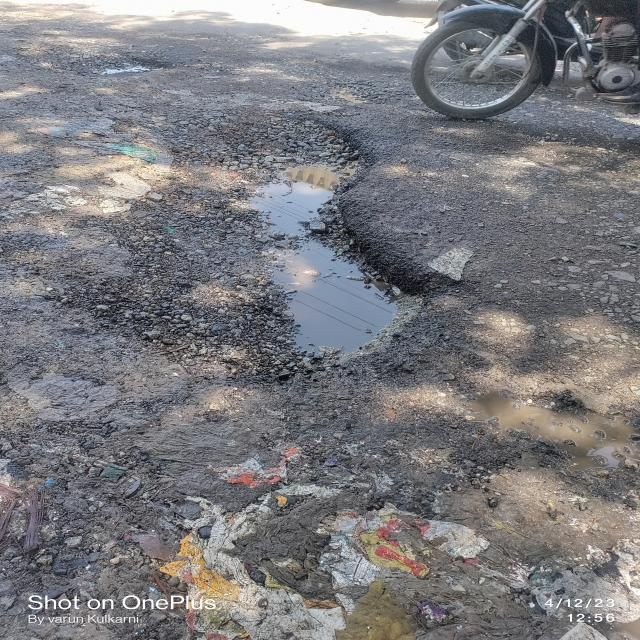Puddle pothole: (194, 123, 453, 383), (481, 375, 640, 470)
